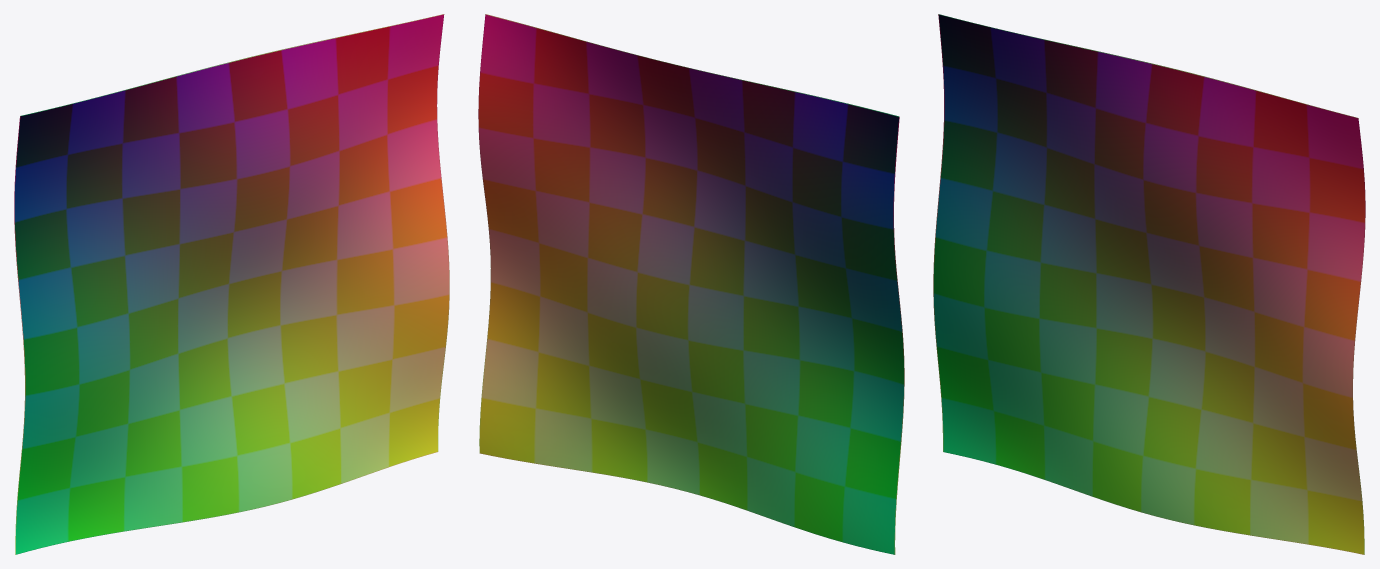
The model's file is Tile_+028_+027.obj.
3 views of the same model, side by side, from view 1: azimuth 30°, elevation 25°; view 2: azimuth 150°, elevation 25°; view 3: azimuth 330°, elevation 25° (orthographic).
Size of the model in its own units: 100 by 100 by 6.22.
